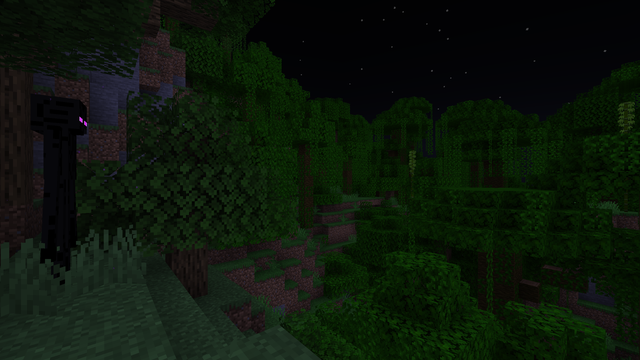endermens: (26, 85, 87, 299)
